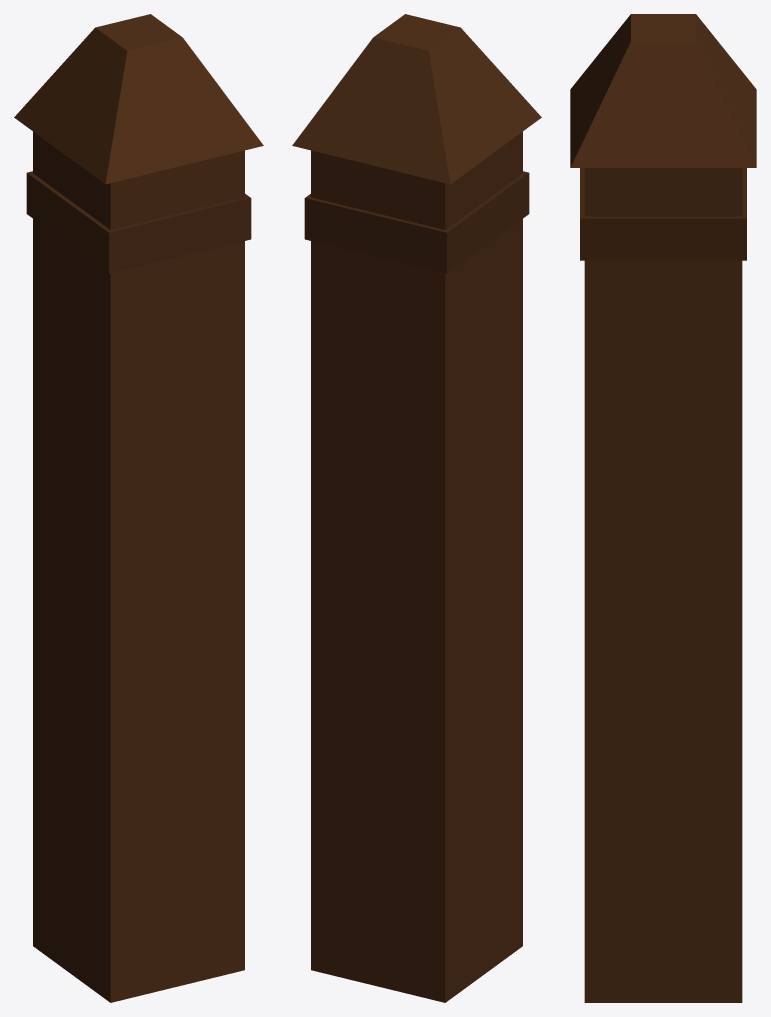
The model's file is fence_post.glb.
The picture shows the model from 3 angles, left to right: view 1: azimuth 30°, elevation 25°; view 2: azimuth 150°, elevation 25°; view 3: azimuth 270°, elevation 25°; orthographic projection.
Visible parts, largest first — view 1: fence_post; view 2: fence_post; view 3: fence_post.
Part boxes in pixels (left/top/right/bottom): fence_post: left=14, top=14, right=263, bottom=1002; fence_post: left=292, top=14, right=541, bottom=1002; fence_post: left=570, top=14, right=756, bottom=1002.
Size of the model in its own units: 0.2006 by 1.12 by 0.2006.
